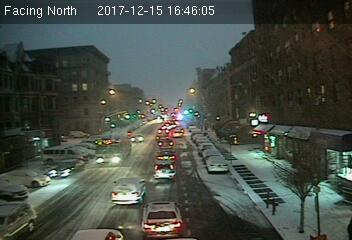bus: (95, 132, 132, 167)
car: (140, 202, 184, 236), (112, 178, 144, 205), (152, 162, 177, 180), (206, 156, 230, 172), (157, 136, 174, 149), (156, 150, 174, 161)
